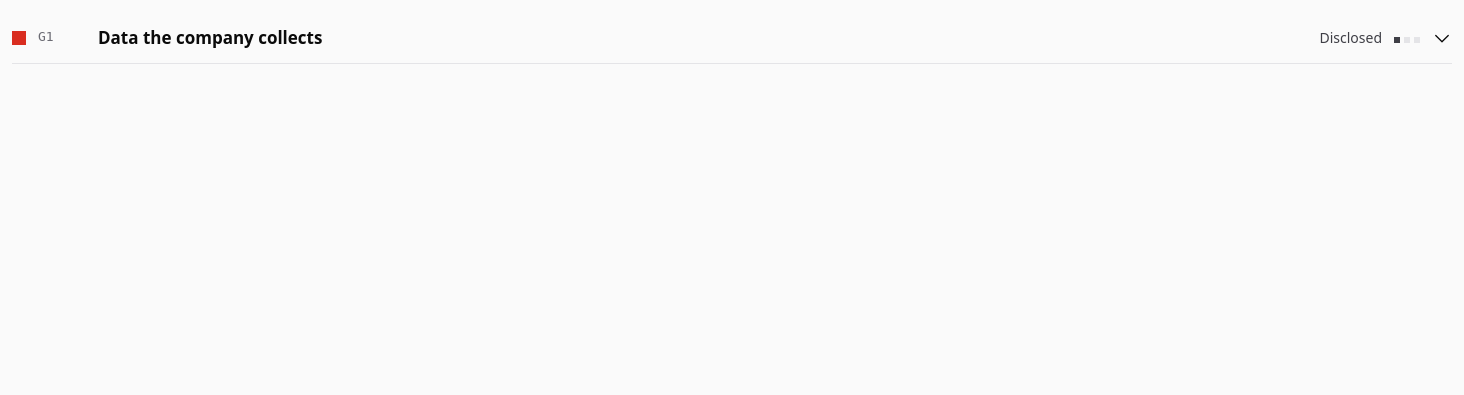
Scenario: FlagRow › reports a dropped quote by count only, never its text
Click the button: (45, 49) top-left (12, 12), bottom-right (1452, 63)
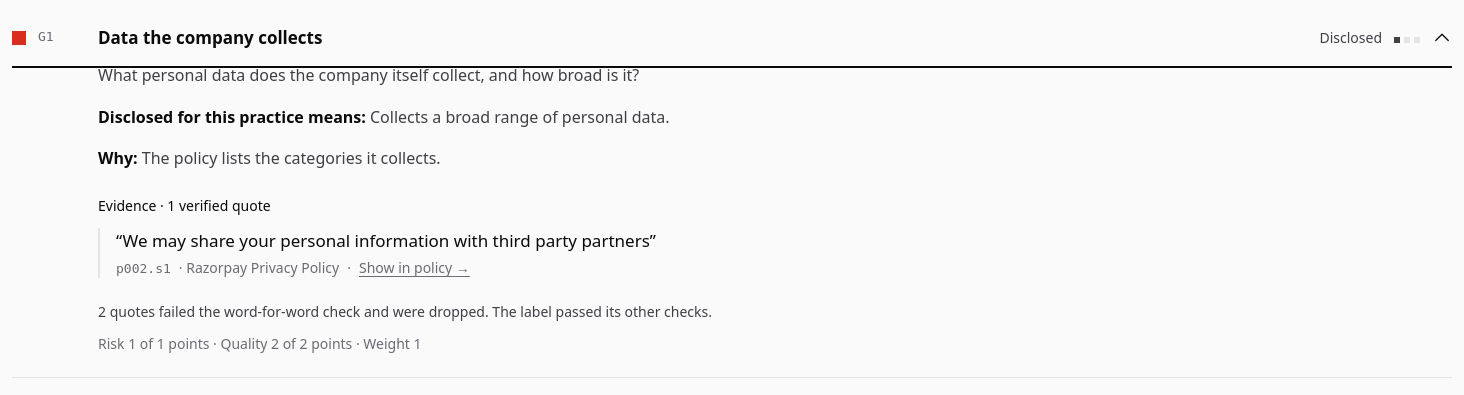
Expected: the text "2 quotes failed the word-for-word check and were dropped" is shown, top-left (98, 302), bottom-right (712, 321)
